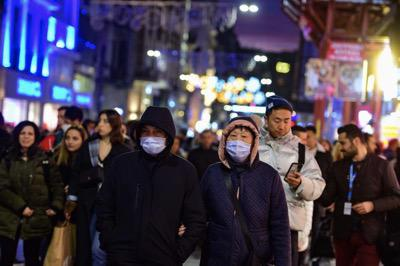with_mask: (224, 130, 252, 161), (139, 126, 167, 155)
without_mask: (269, 115, 292, 137), (338, 138, 357, 160), (97, 116, 112, 138), (64, 133, 82, 151), (18, 129, 35, 148), (201, 132, 212, 147)
